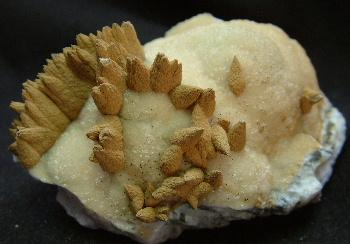calcite: (145, 20, 326, 208), (30, 91, 192, 222), (120, 90, 192, 186), (243, 151, 271, 186)
